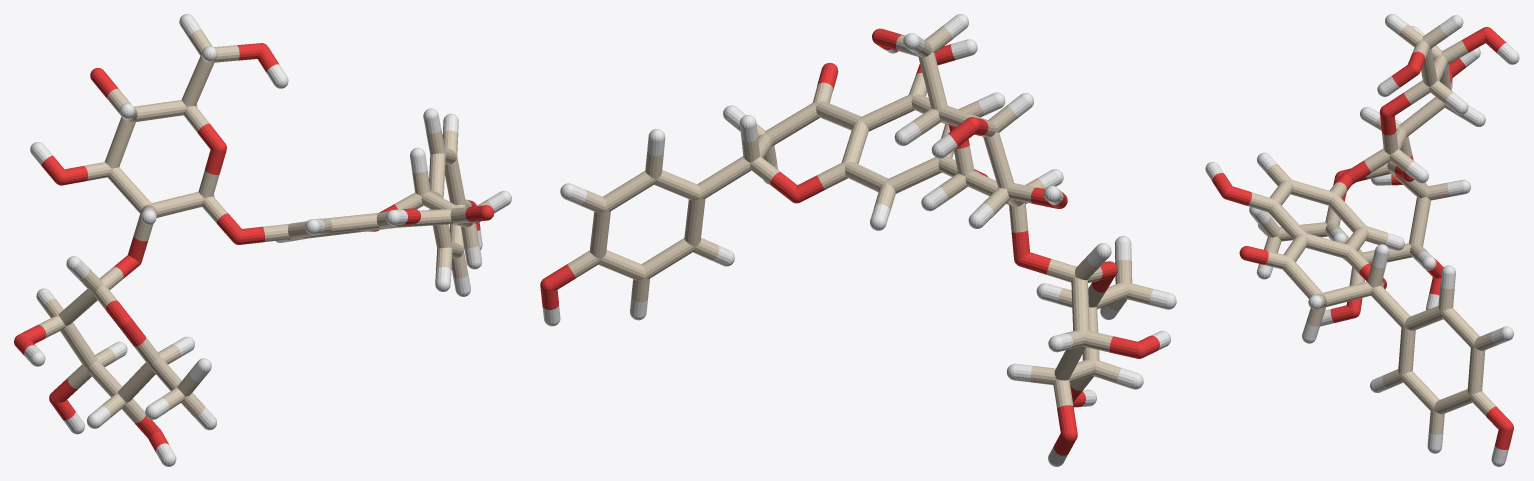
Rendered from naringen.fbx.
The picture shows the model from 3 angles, left to right: view 1: azimuth 30°, elevation 25°; view 2: azimuth 150°, elevation 25°; view 3: azimuth 270°, elevation 25°; orthographic projection. The views are drawn at different scales.
Parts seen in each view (by area): view 1: Shape_Cylinder.054, Shape_Cylinder.058, Shape_Cylinder.061, Shape_Cylinder.055, Shape_Cylinder.072, Shape_Cylinder.099, Shape_Cylinder.069, Shape_Cylinder.122, Shape_Cylinder.078, Shape_Cylinder.064, Shape_Cylinder.114, Shape_Cylinder.075 (+2 smaller); view 2: Shape_Cylinder.106, Shape_Cylinder.109, Shape_Cylinder.072, Shape_Cylinder.058, Shape_Cylinder.094, Shape_Cylinder.119, Shape_Cylinder.116, Shape_Cylinder.103, Shape_Cylinder.064, Shape_Cylinder.122, Shape_Cylinder.115, Shape_Cylinder.125 (+4 smaller); view 3: Shape_Cylinder.069, Shape_Cylinder.105, Shape_Cylinder.054, Shape_Cylinder.106, Shape_Cylinder.115, Shape_Cylinder.122, Shape_Cylinder.116, Shape_Cylinder.109, Shape_Cylinder.119, Shape_Cylinder.102, Shape_Cylinder.095, Shape_Cylinder.103 (+22 smaller).
Boxes of the visible parts, x1,y1,x2,y2 form: Shape_Cylinder.054: [107, 167, 151, 213]; Shape_Cylinder.058: [104, 116, 135, 168]; Shape_Cylinder.061: [134, 100, 186, 121]; Shape_Cylinder.055: [151, 191, 203, 217]; Shape_Cylinder.072: [181, 56, 214, 106]; Shape_Cylinder.099: [327, 213, 379, 233]; Shape_Cylinder.069: [60, 322, 97, 368]; Shape_Cylinder.122: [445, 156, 466, 204]; Shape_Cylinder.078: [117, 362, 155, 402]; Shape_Cylinder.064: [58, 289, 97, 325]; Shape_Cylinder.114: [429, 153, 445, 198]; Shape_Cylinder.075: [87, 360, 122, 396]; Shape_Cylinder.106: [697, 156, 751, 198]; Shape_Cylinder.109: [764, 102, 819, 146]; Shape_Cylinder.072: [918, 52, 947, 110]; Shape_Cylinder.058: [983, 132, 1013, 188]; Shape_Cylinder.094: [886, 157, 941, 193]; Shape_Cylinder.119: [642, 238, 695, 278]; Shape_Cylinder.116: [603, 171, 656, 211]; Shape_Cylinder.103: [859, 94, 914, 131]; Shape_Cylinder.064: [1071, 277, 1089, 331]; Shape_Cylinder.122: [589, 210, 610, 259]; Shape_Cylinder.115: [684, 198, 705, 246]; Shape_Cylinder.125: [598, 250, 645, 280]; Shape_Cylinder.069: [1409, 197, 1430, 246]; Shape_Cylinder.105: [1322, 281, 1372, 306]; Shape_Cylinder.054: [1399, 97, 1444, 136]; Shape_Cylinder.106: [1371, 285, 1410, 327]; Shape_Cylinder.115: [1398, 326, 1415, 375]; Shape_Cylinder.122: [1467, 346, 1485, 395]; Shape_Cylinder.116: [1440, 308, 1479, 347]; Shape_Cylinder.109: [1283, 258, 1322, 298]; Shape_Cylinder.119: [1400, 371, 1439, 410]; Shape_Cylinder.102: [1306, 233, 1350, 258]; Shape_Cylinder.095: [1290, 179, 1335, 205]; Shape_Cylinder.103: [1268, 201, 1306, 239].
Size of the model in its own units: 1521 by 1072 by 858.
